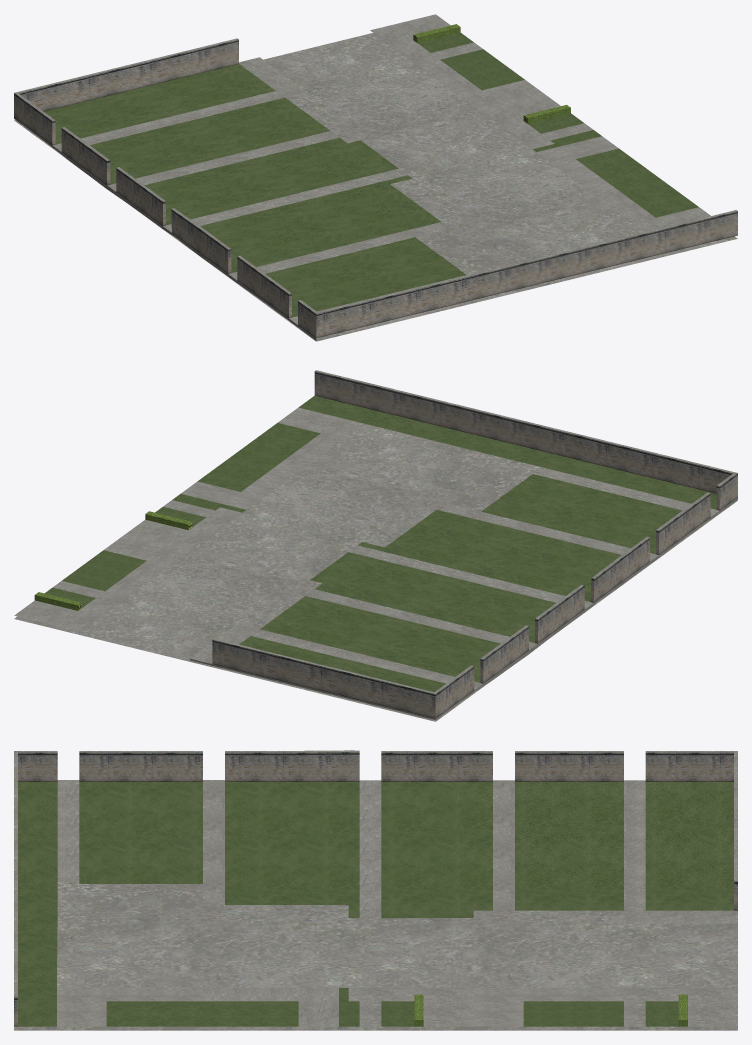
The model's file is lastbit_gnd01_sfs.obj.
3 renders of one model, top to bottom at view 1: azimuth 30°, elevation 25°; view 2: azimuth 150°, elevation 25°; view 3: azimuth 270°, elevation 25°, orthographic. The views are drawn at different scales.
Parts seen in each view (by area): view 1: lastbit_GND01_SFS; view 2: lastbit_GND01_SFS; view 3: lastbit_GND01_SFS.
Part boxes in pixels (x1,y1,x2,y2): lastbit_GND01_SFS: (14,14,737,341); lastbit_GND01_SFS: (14,370,737,721); lastbit_GND01_SFS: (14,750,737,1030).
Size of the model in its own units: 40.08 by 2.57 by 49.65.
Materials: 4 (4 with a texture image).
